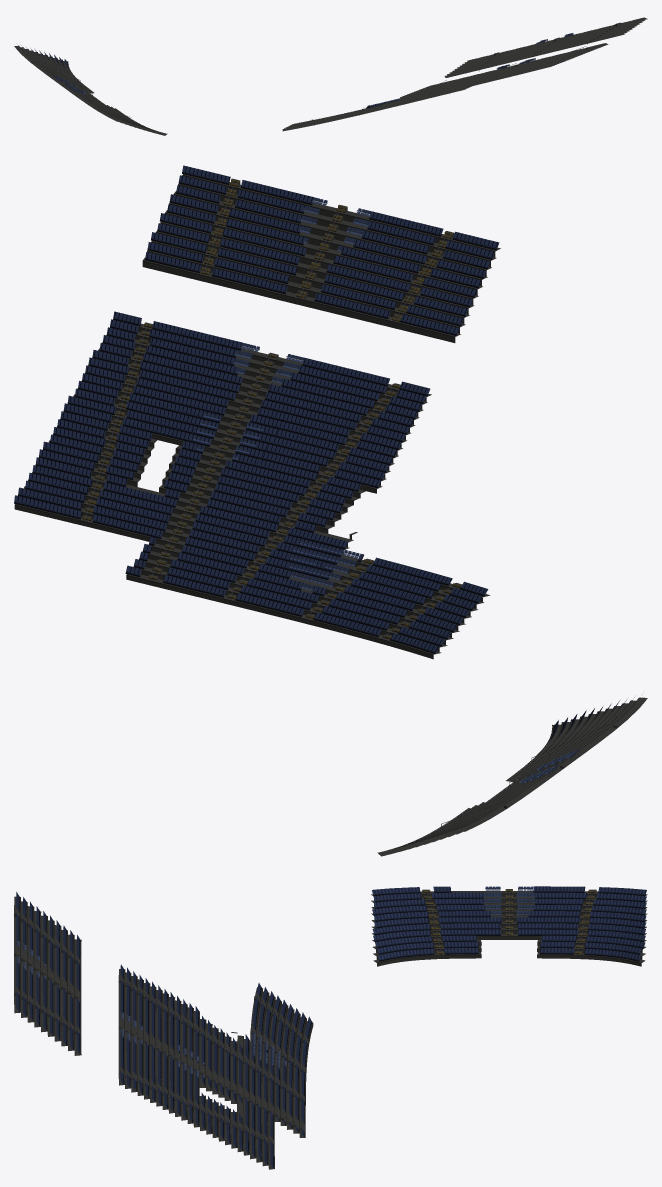
Rendered from near.glb.
The picture shows the model from 3 angles, top to bottom: view 1: azimuth 30°, elevation 25°; view 2: azimuth 150°, elevation 25°; view 3: azimuth 270°, elevation 25°; orthographic projection. The views are drawn at different scales.
Parts seen in each view (by area): view 1: near_upper, near_endzone, near_clubLevel, near_club, near_sideline; view 2: near_club, near_upper, near_clubLevel, near_sideline, near_endzone; view 3: near_endzone, near_club, near_upper, near_clubLevel, near_sideline.
Boxes of the visible parts, <box> form: near_upper: <box>444,17,647,77</box>; near_endzone: <box>14,45,167,135</box>; near_clubLevel: <box>409,43,608,95</box>; near_club: <box>377,52,586,108</box>; near_sideline: <box>282,84,474,131</box>; near_club: <box>14,381,394,580</box>; near_upper: <box>142,165,500,342</box>; near_clubLevel: <box>81,311,431,490</box>; near_sideline: <box>125,513,490,659</box>; near_endzone: <box>377,697,647,856</box>; near_endzone: <box>371,886,647,966</box>; near_club: <box>175,996,274,1169</box>; near_upper: <box>14,892,81,1055</box>; near_clubLevel: <box>118,964,211,1113</box>; near_sideline: <box>250,983,313,1137</box>.
Size of the model in its own units: 90.76 by 29.55 by 92.95.
Materials: 7 (6 with a texture image).
